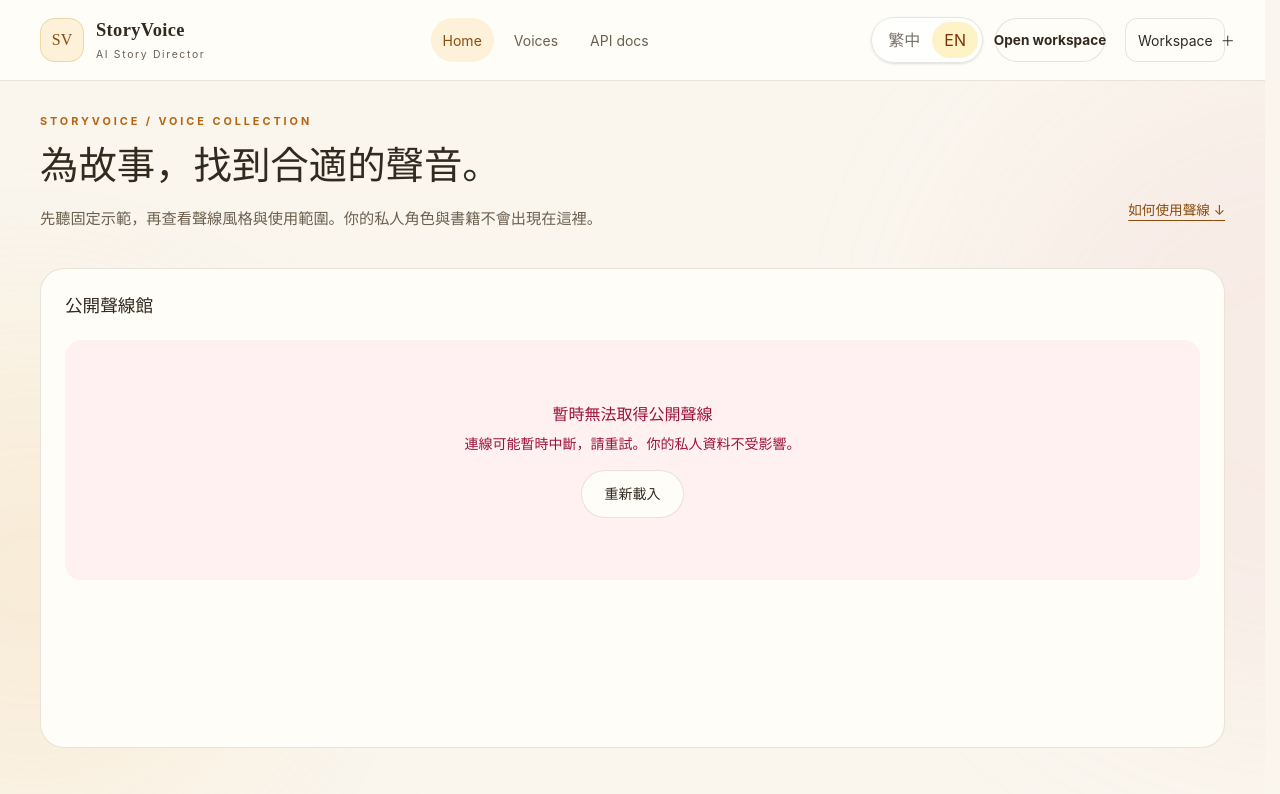
Test case: 空目錄與錯誤不同，失敗可以重試且不洩漏伺服器訊息
Expected: the message "暫時無法取得公開聲線 連線可能暫時中斷，請重試。你的私人資料不受影響。 重新載入" is shown, [65, 340, 1200, 580]
What coordinates should you click on to do the following:
click the button "重新載入"
I would click on:
 (632, 494)
Its box is [581, 470, 684, 518].
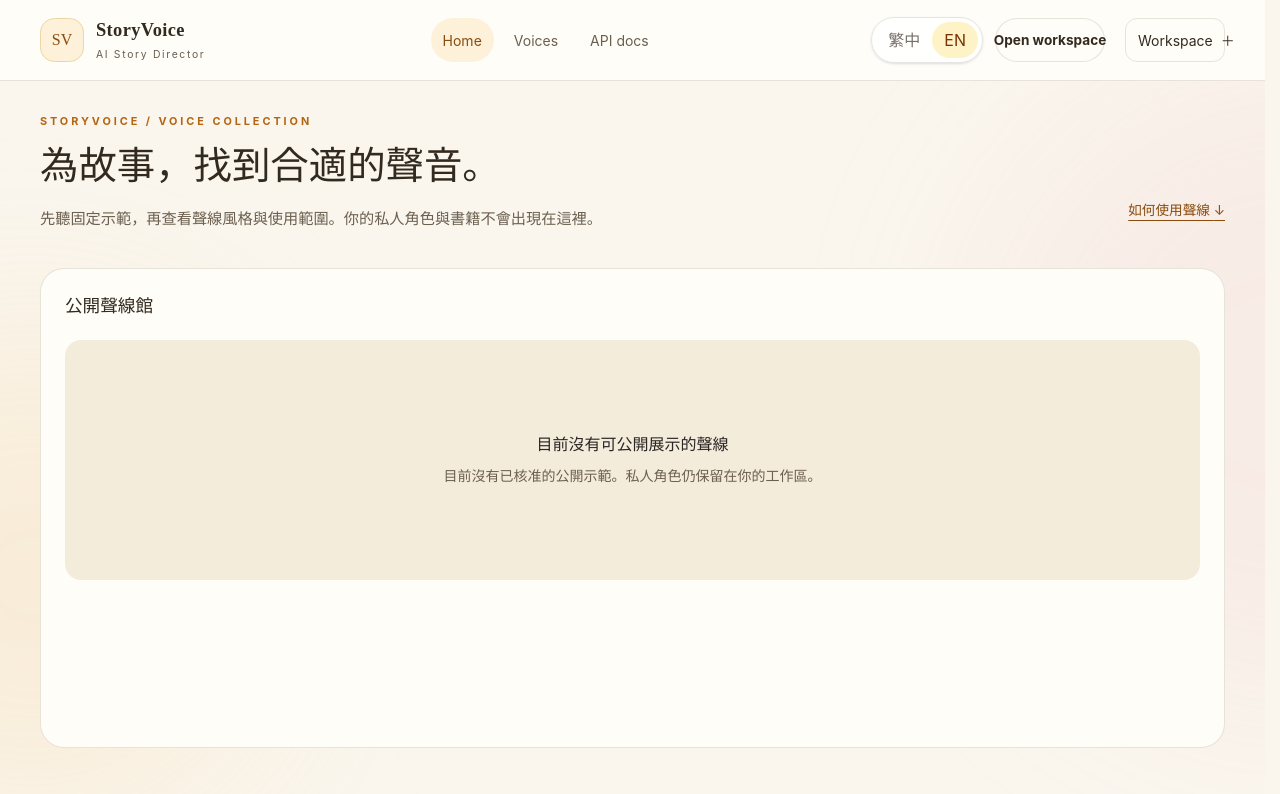
Expected: the text "目前沒有可公開展示的聲線" is shown, [536, 432, 728, 456]
